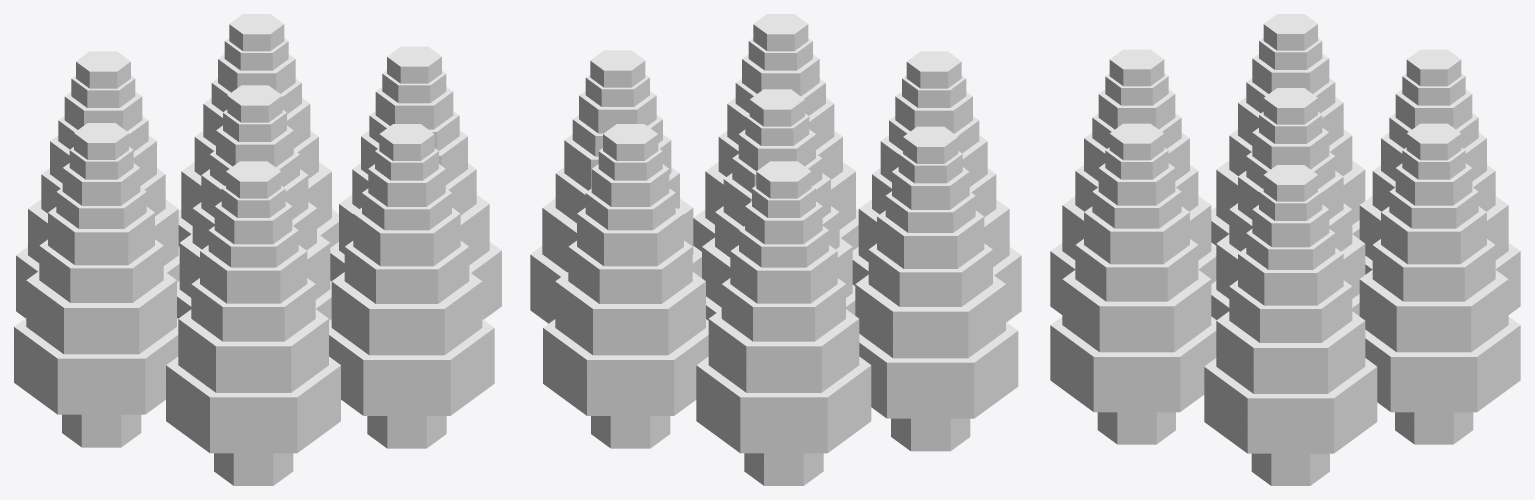
File: Treegroup3.fbx
3 renders of one model, left to right at view 1: azimuth 30°, elevation 25°; view 2: azimuth 150°, elevation 25°; view 3: azimuth 270°, elevation 25°, orthographic.
Visible parts, largest first — view 1: Cylinder.007; view 2: Cylinder.007; view 3: Cylinder.007.
Part boxes in pixels (x1,y1,x2,y2): Cylinder.007: [14, 14, 501, 485]; Cylinder.007: [530, 14, 1021, 485]; Cylinder.007: [1050, 14, 1520, 485].
Bounding box in the file's own units: 1294 × 836 × 1200.
